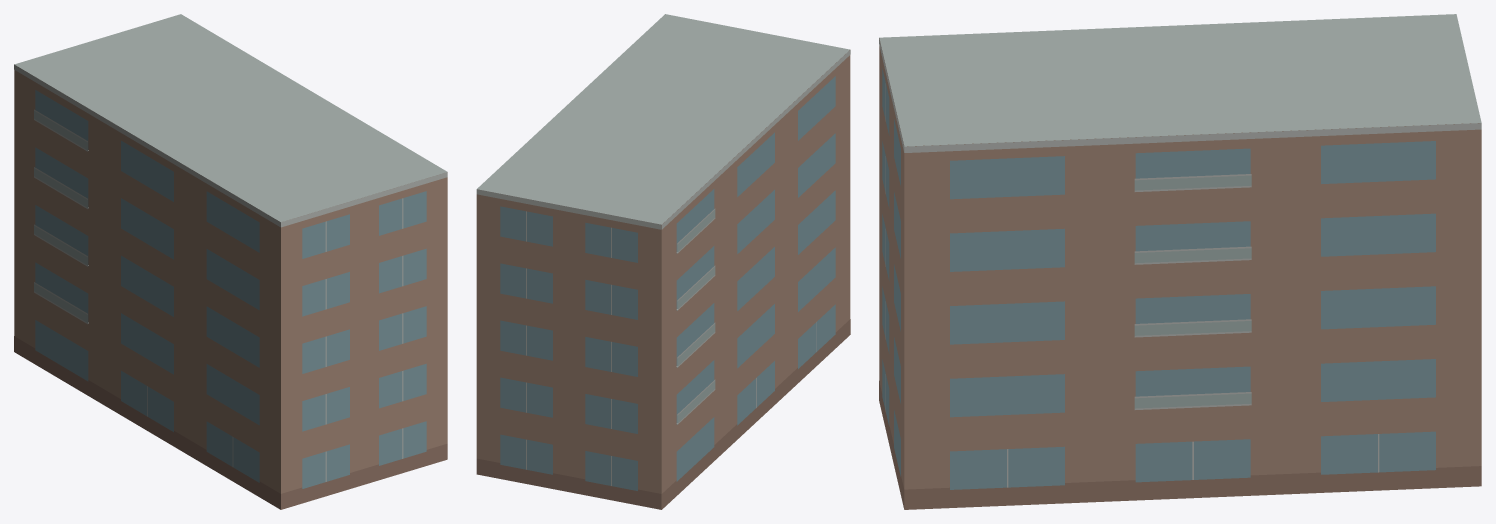
File: survey-upis-33013562.glb
The picture shows the model from 3 angles, left to right: view 1: azimuth 30°, elevation 25°; view 2: azimuth 150°, elevation 25°; view 3: azimuth 270°, elevation 25°; orthographic projection. The views are drawn at different scales.
Visible parts, largest first — view 1: survey-upis-33013562.tmp; view 2: survey-upis-33013562.tmp; view 3: survey-upis-33013562.tmp.
Part boxes in pixels (bbox=[...]): survey-upis-33013562.tmp: bbox=[14, 14, 447, 509]; survey-upis-33013562.tmp: bbox=[476, 14, 850, 509]; survey-upis-33013562.tmp: bbox=[879, 14, 1481, 509].
Size of the model in its own units: 10.53 by 13.45 by 20.22.
